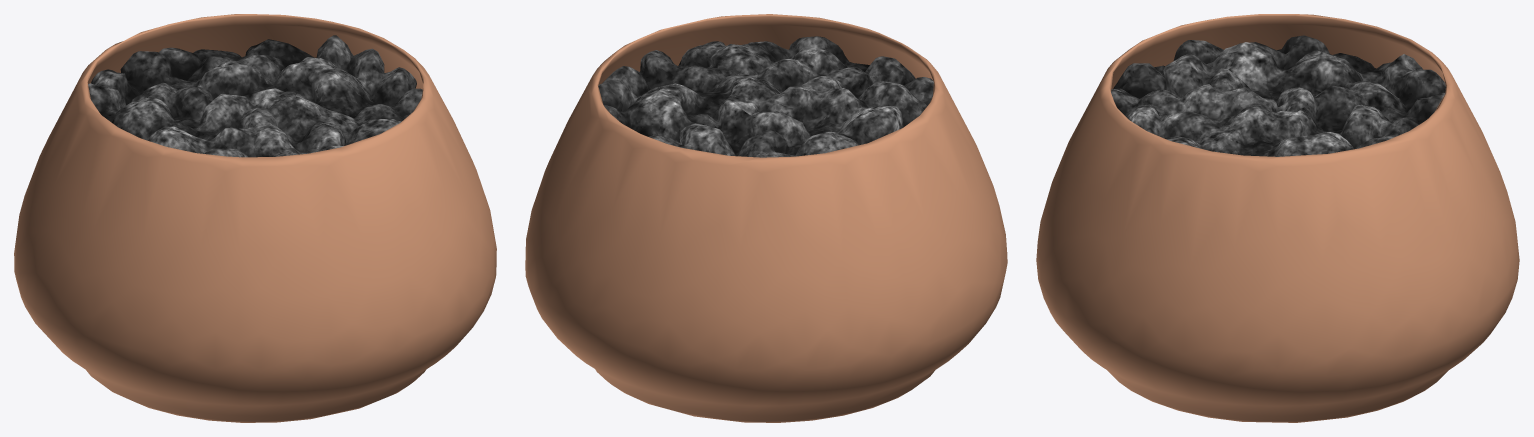
Rendered from PotOfCoals.glb.
The picture shows the model from 3 angles, left to right: view 1: azimuth 30°, elevation 25°; view 2: azimuth 150°, elevation 25°; view 3: azimuth 270°, elevation 25°; orthographic projection.
Parts seen in each view (by area): view 1: CopperPot, HotCoals; view 2: CopperPot, HotCoals; view 3: CopperPot, HotCoals.
Part boxes in pixels (x1=…): CopperPot: x1=14, y1=14, x2=496, y2=422; HotCoals: x1=88, y1=35, x2=422, y2=157; CopperPot: x1=525, y1=14, x2=1007, y2=422; HotCoals: x1=598, y1=36, x2=933, y2=157; CopperPot: x1=1036, y1=14, x2=1519, y2=422; HotCoals: x1=1111, y1=35, x2=1445, y2=156.
Size of the model in its own units: 0.0798 by 0.0493 by 0.08.
2 materials, 1 textured.
